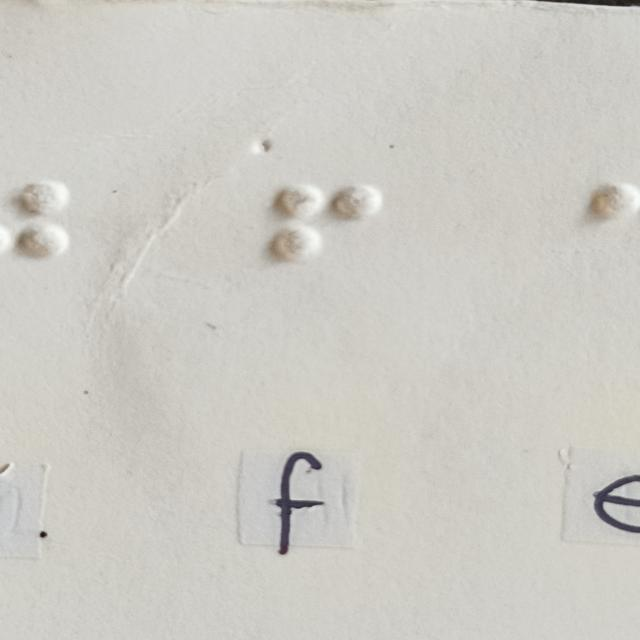letter_f: (276, 185, 375, 312)
